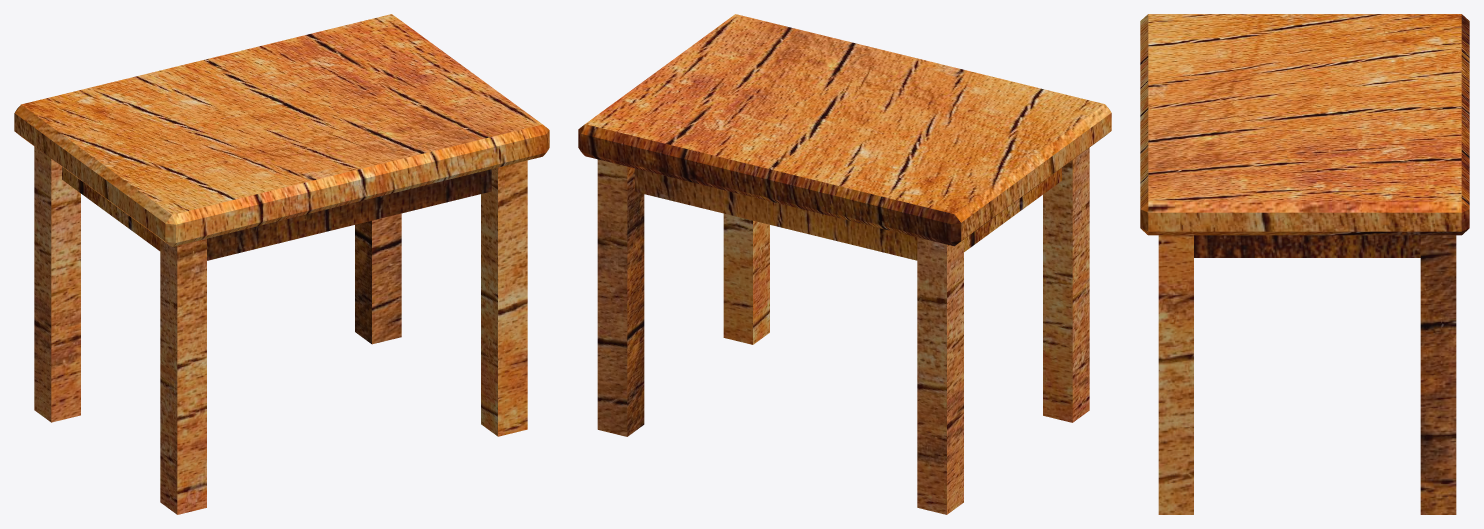
Rendered from table.fbx.
3 views of the same model, side by side, from view 1: azimuth 30°, elevation 25°; view 2: azimuth 150°, elevation 25°; view 3: azimuth 270°, elevation 25° (orthographic). The views are drawn at different scales.
Parts seen in each view (by area): view 1: pCube10; view 2: pCube10; view 3: pCube10.
Boxes of the visible parts, x1,y1,x2,y2 form: pCube10: (14,14,549,514); pCube10: (578,14,1111,514); pCube10: (1140,14,1469,514).
Bounding box in the file's own units: 7.93 × 6.04 × 5.67.
Materials: 1 (1 with a texture image).
